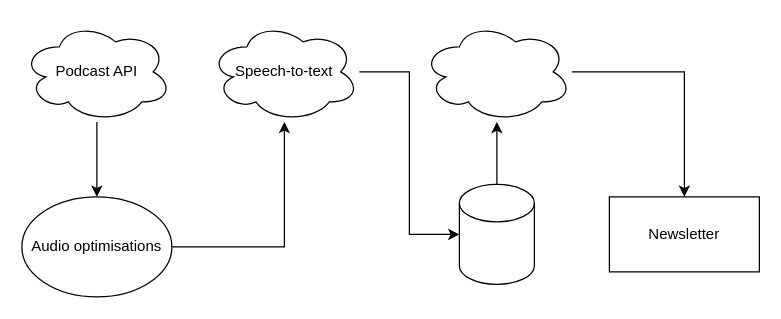
The diagram is 781 pixels wide and 319 high, and some of its shapes have lost their labels. The shapes that lost their labels are listed below. From the top down, each one's centre as x and y in pixels, then its label:
point 496,71: LLM
point 496,233: Transcription
